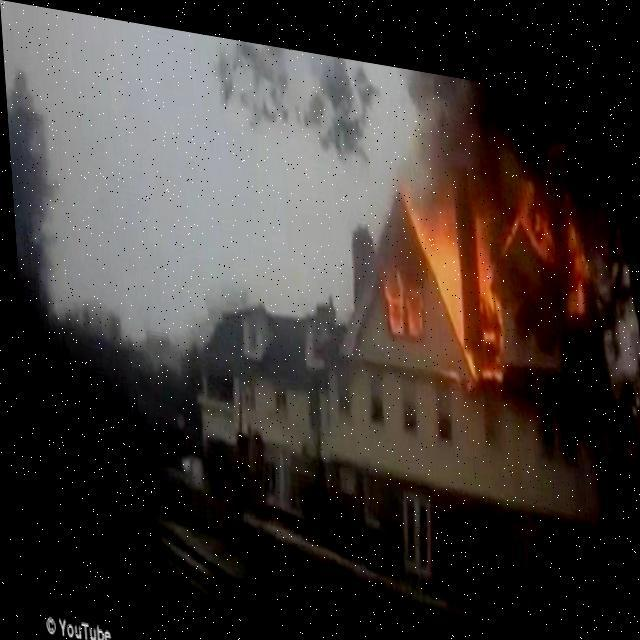Fire: (381, 158, 595, 381)
